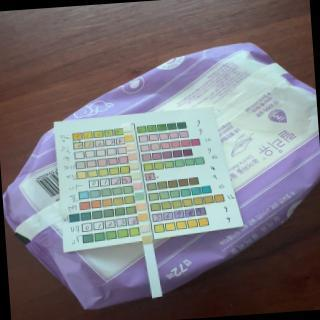mark: (142, 236, 152, 244), (135, 192, 145, 200), (141, 224, 150, 232), (129, 153, 138, 161), (133, 172, 141, 180), (137, 203, 146, 210), (134, 183, 143, 190), (127, 144, 136, 151), (139, 213, 147, 220), (131, 163, 139, 170), (126, 135, 134, 142), (125, 126, 133, 132)
